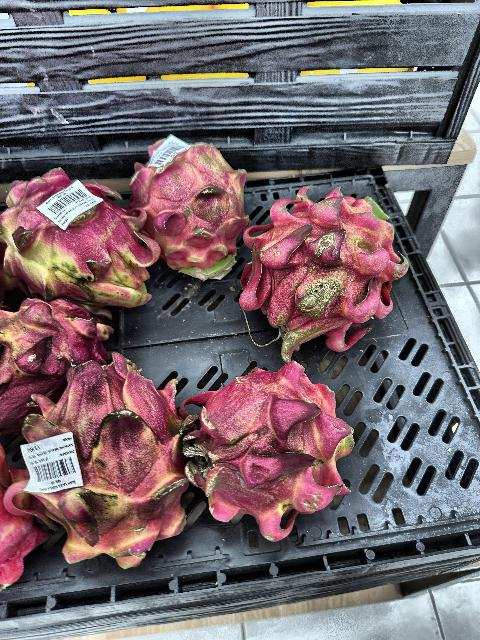buah-naga-belum-matang: (20, 360, 194, 560), (1, 178, 162, 304), (130, 140, 248, 274), (0, 295, 110, 411)
buah-naga-matang: (178, 353, 362, 537), (242, 185, 410, 349), (0, 439, 46, 583)
